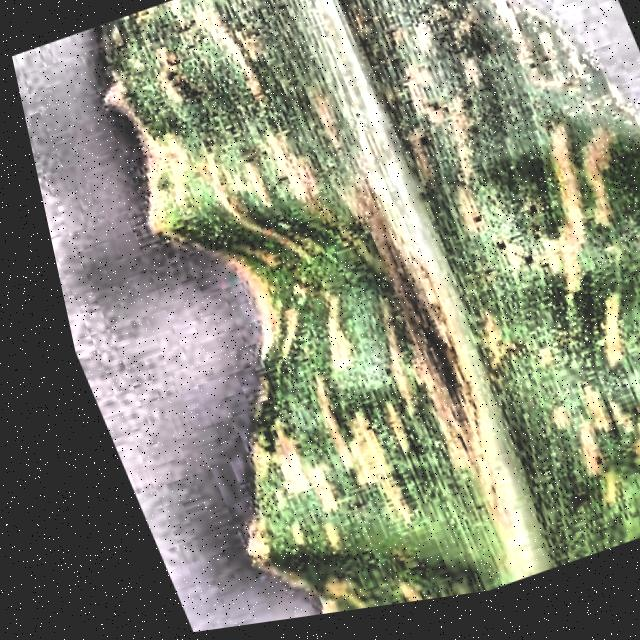blight: (79, 0, 640, 629)
